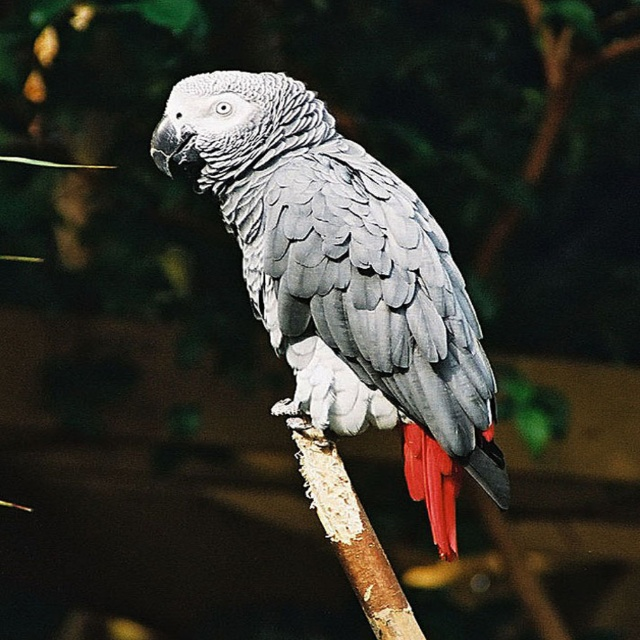Parrot: (151, 69, 512, 567)
